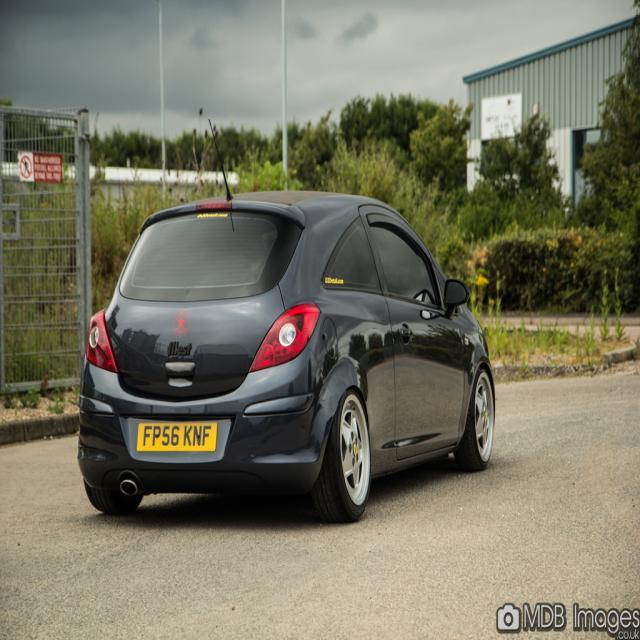car: (78, 209, 500, 528)
